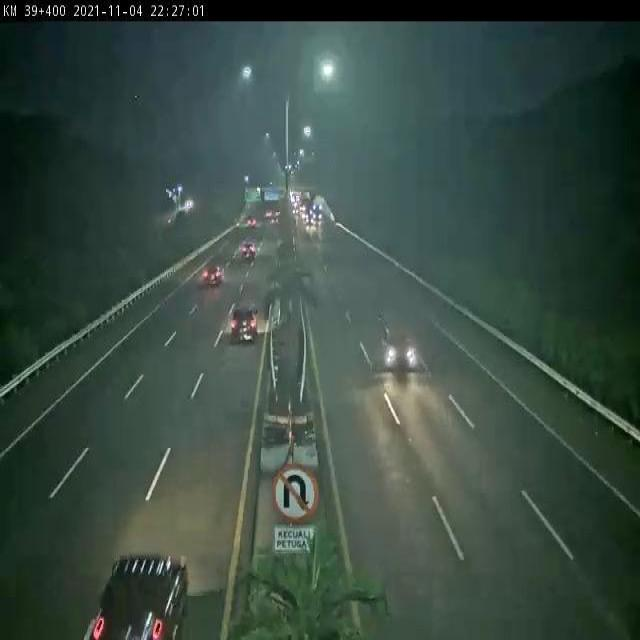car: (89, 549, 188, 640), (379, 323, 419, 373), (228, 307, 258, 345), (201, 262, 225, 286), (237, 237, 259, 260)
